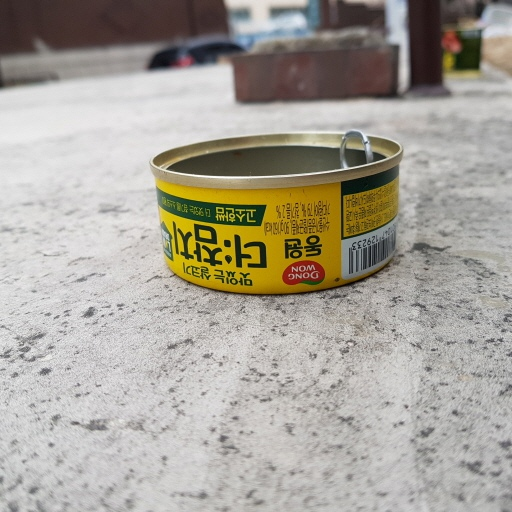Metal_1: (150, 127, 408, 292)
